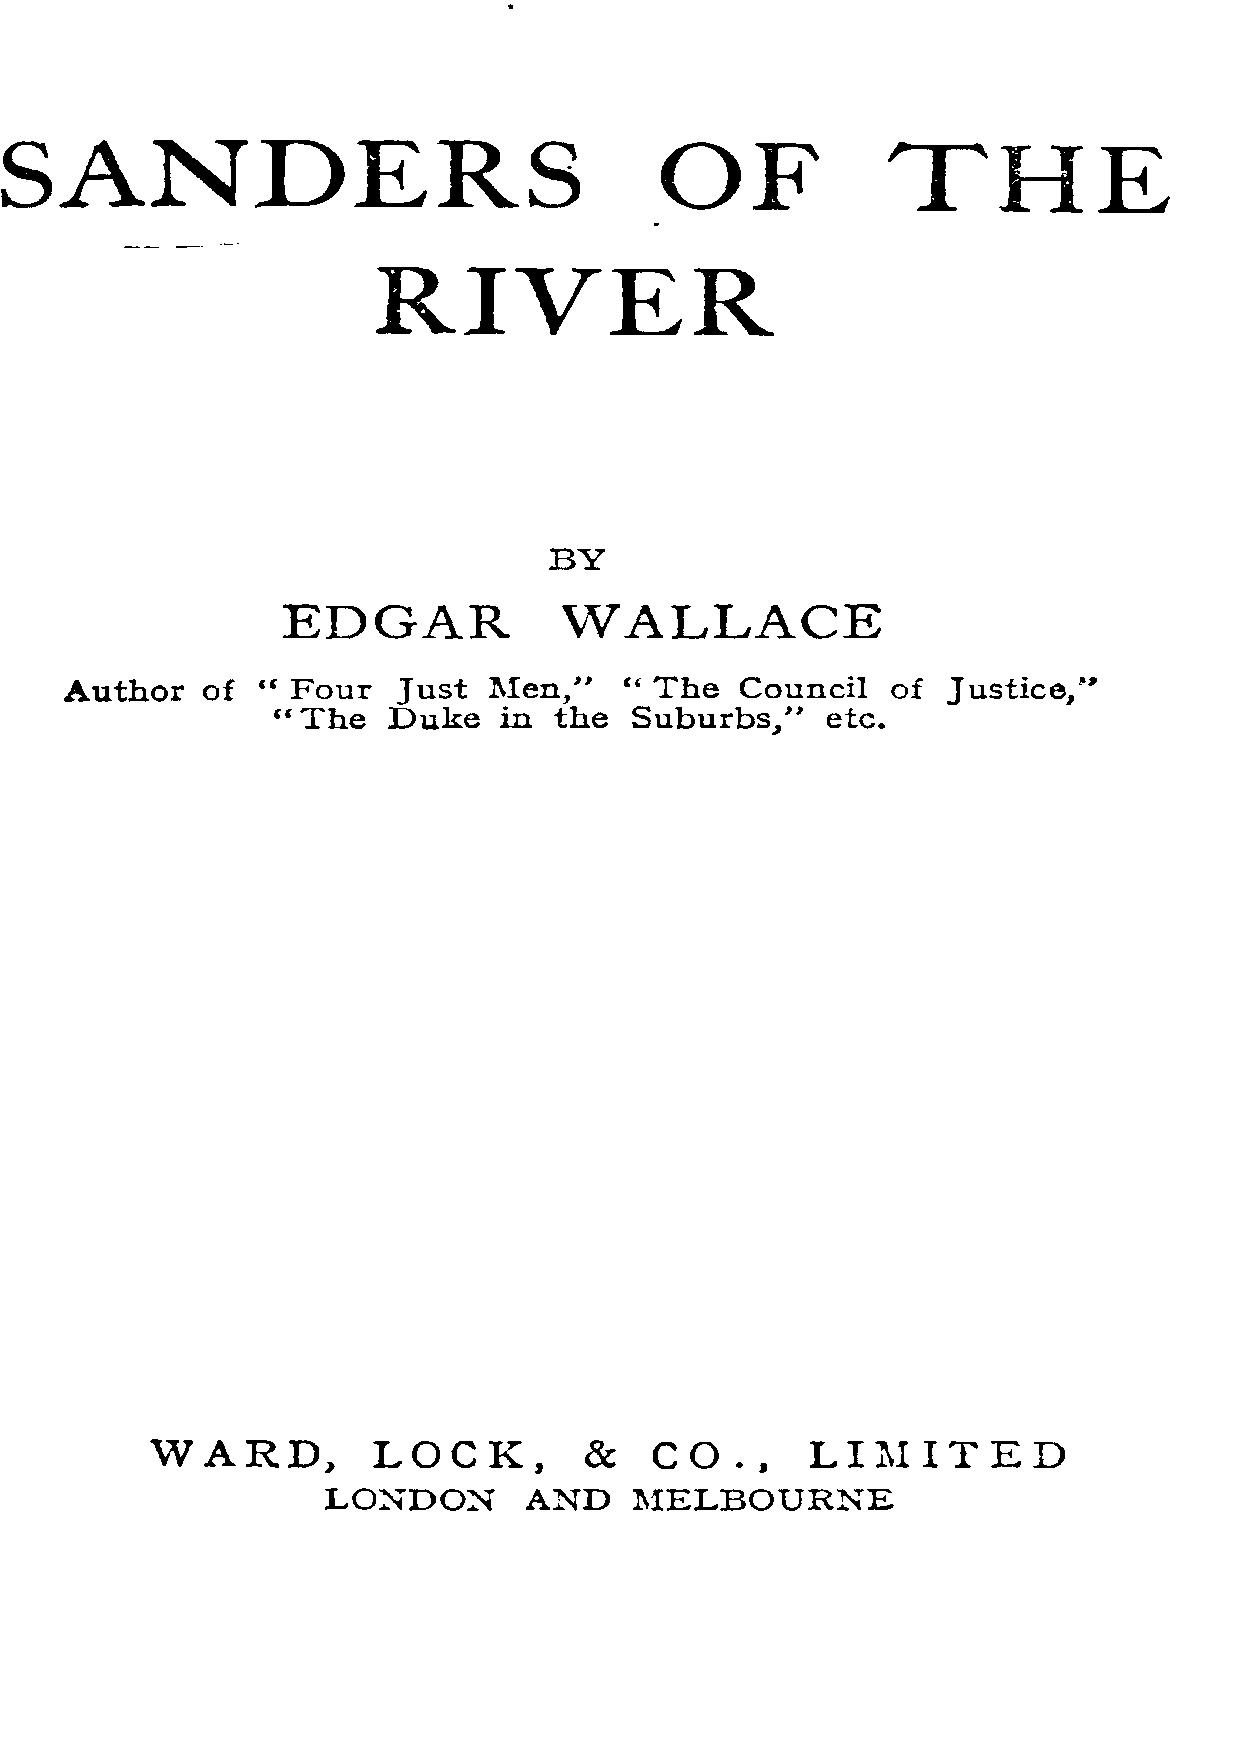author: (278, 541, 882, 641)
title: (0, 134, 1170, 338)
